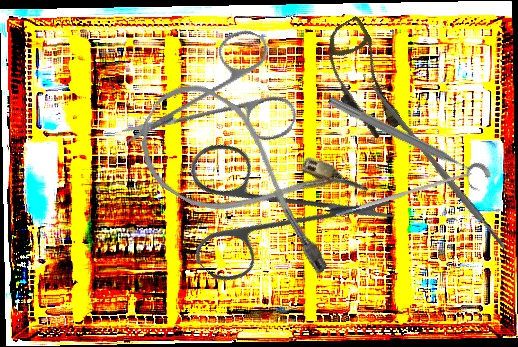Cannula: (120, 69, 374, 281), (308, 15, 416, 144)
Fixation Ring: (320, 91, 495, 196)
Iris Scissors: (142, 82, 401, 340), (119, 0, 321, 200)
Scalpel Handle: (368, 83, 508, 252), (333, 170, 473, 218)
